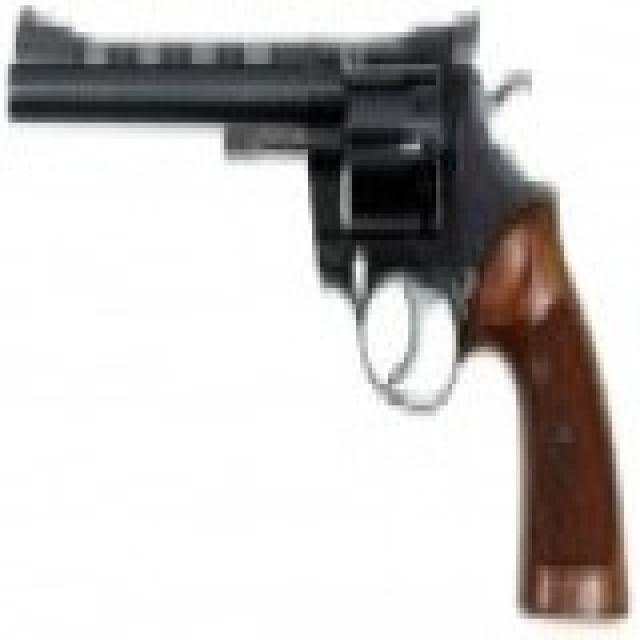gun: (0, 0, 624, 613)
